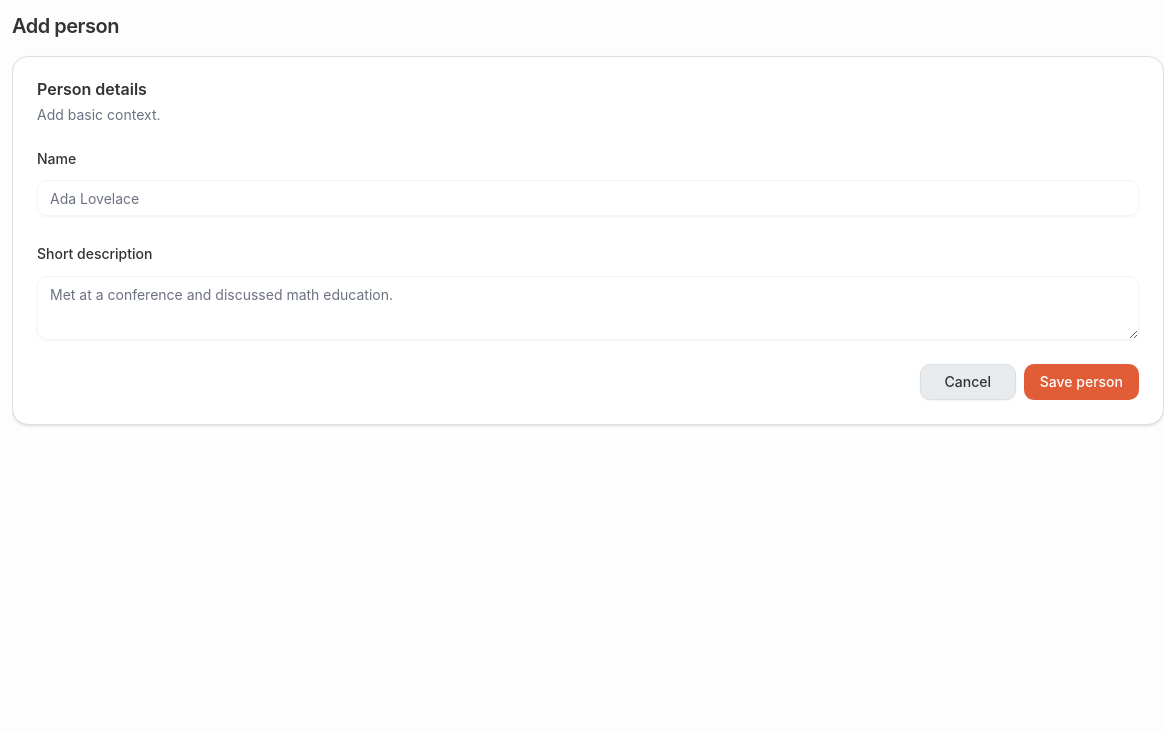
Test: AddPersonPage › shows a form-level alert when the service fails
In the field labelled "Name": [588, 198] box [37,180,1139,216], type "Grace Hopper"
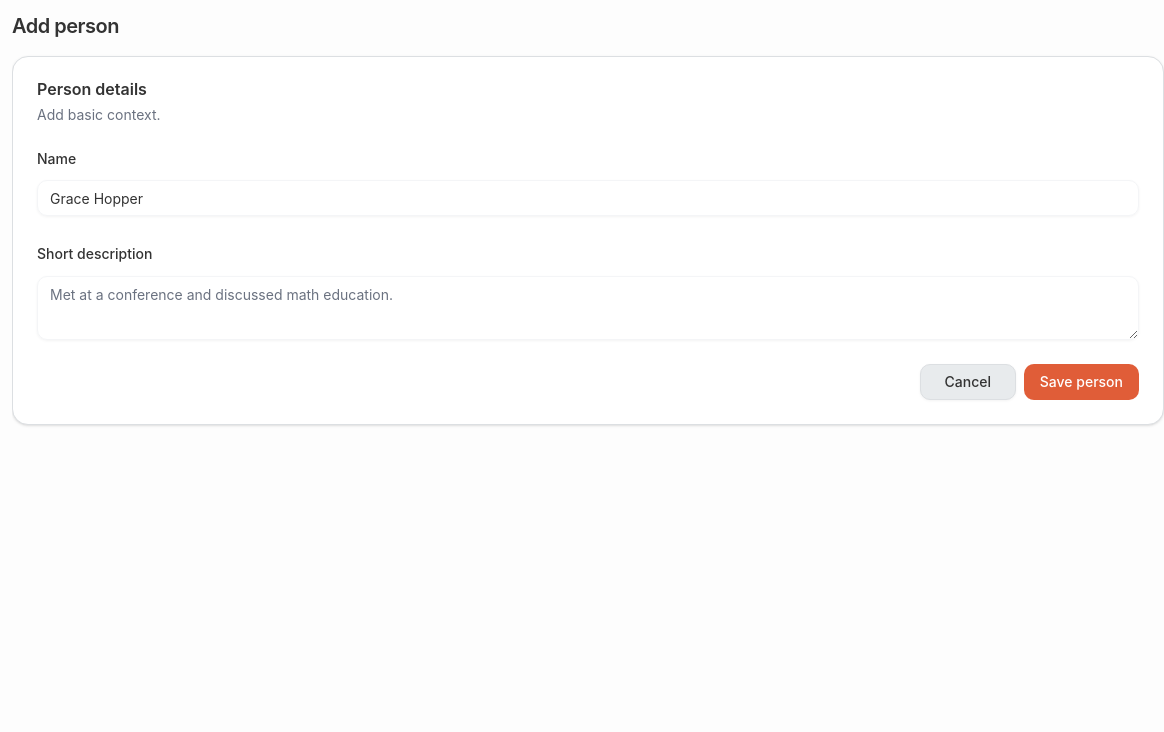
In the text box labelled "Short description": [588, 308] box [37,276,1139,340], type "Former colleague."
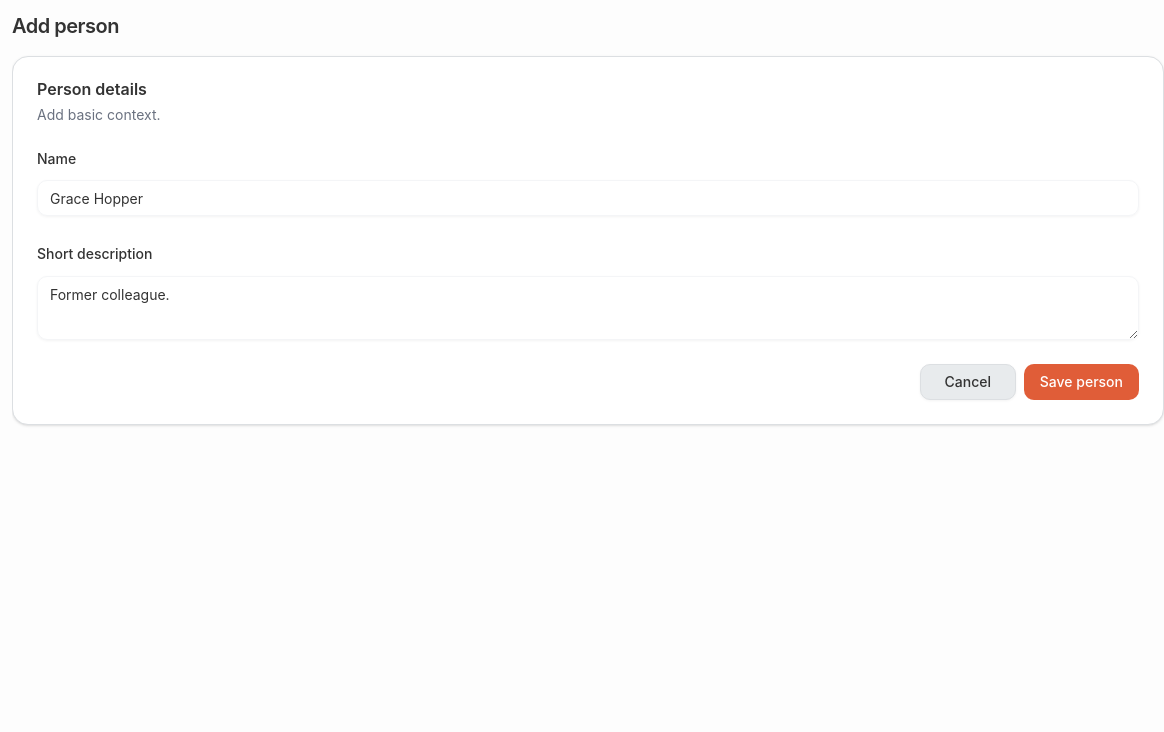
Click the button "Save person": [1081, 382] box [1024,364,1139,400]
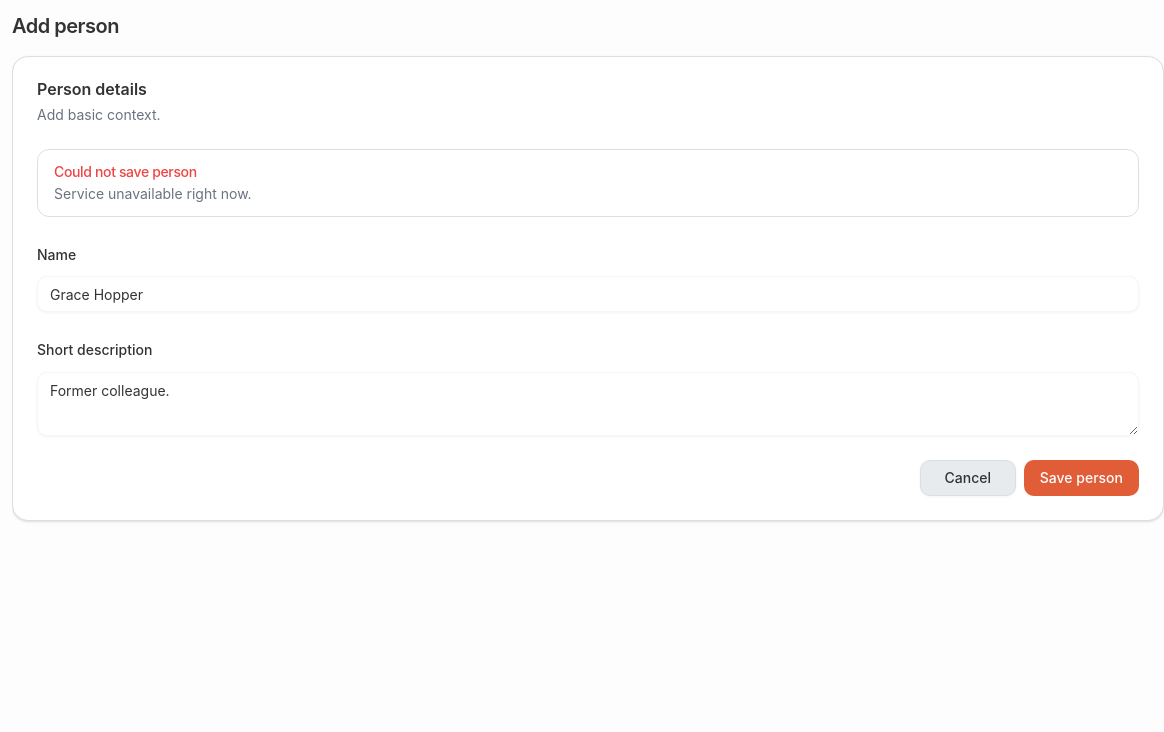
Expected: the text "Service unavailable right now." is shown, [54,185,252,202]
